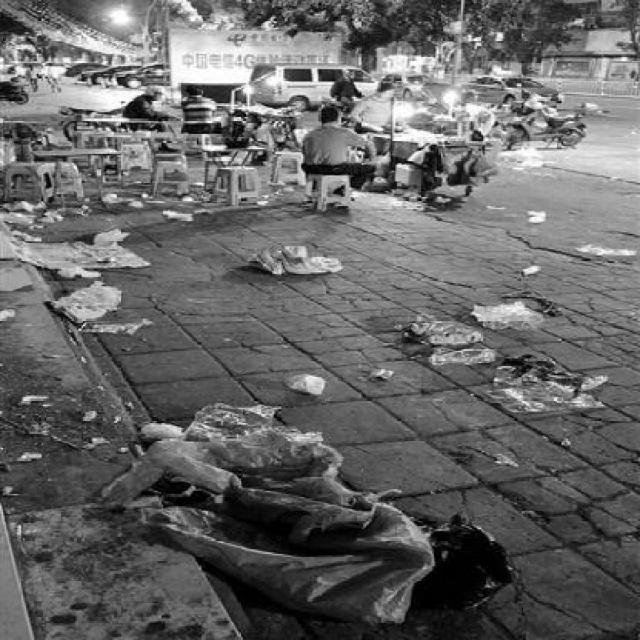garbage: (146, 411, 514, 640), (156, 448, 532, 615), (400, 282, 622, 416), (6, 198, 147, 334), (23, 215, 142, 334), (252, 348, 404, 406), (232, 235, 370, 286), (483, 194, 554, 227), (575, 237, 638, 261), (511, 259, 550, 279)
